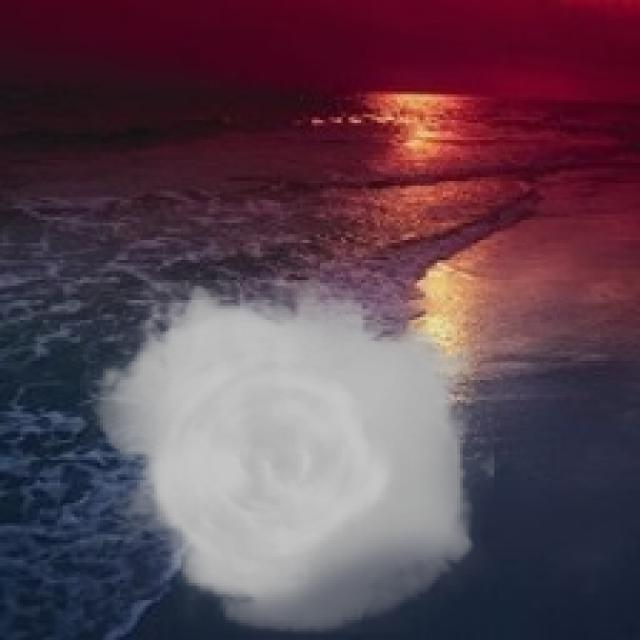Smoke: (80, 280, 494, 634)
